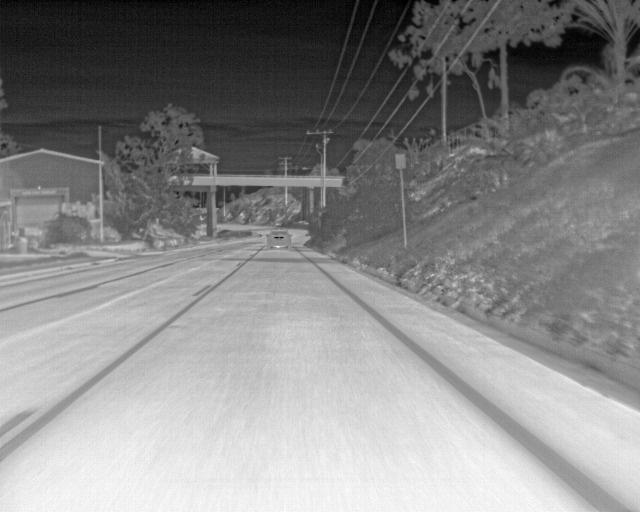car: (266, 230, 293, 250)
